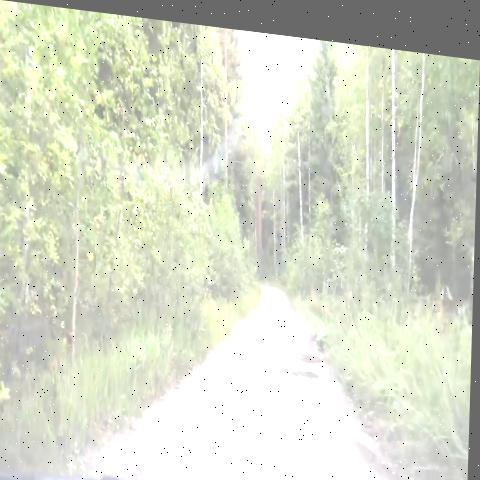pothole: (297, 330, 328, 366), (287, 354, 328, 380)
